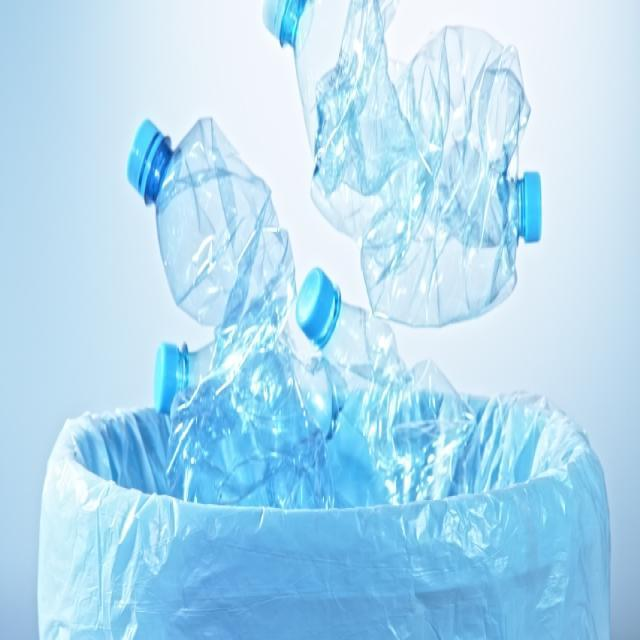Plastic: (266, 0, 505, 263), (121, 104, 315, 381), (291, 259, 487, 508), (409, 25, 541, 251), (158, 341, 333, 503)
